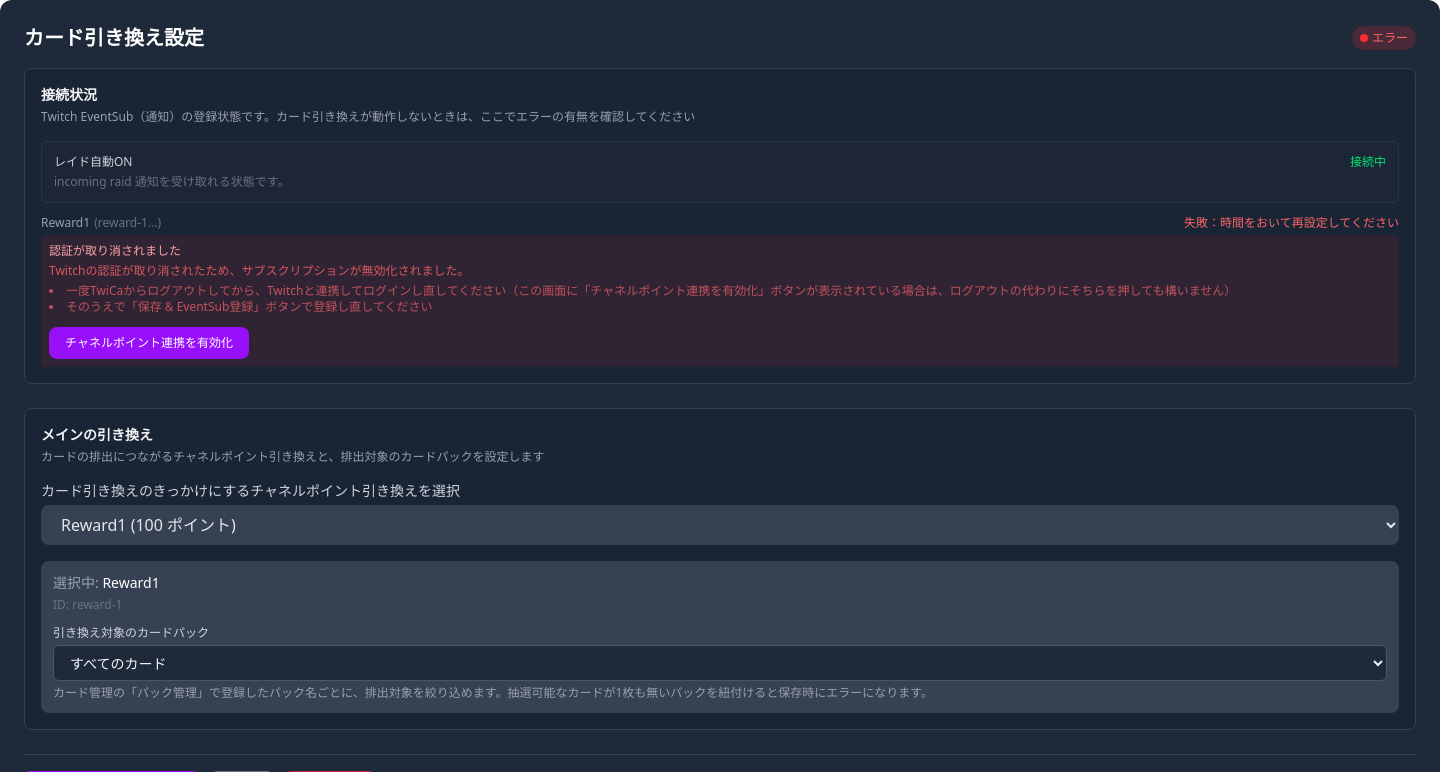
it: ChannelPointSettings maintenance integration › authorization_revoked バナー内の再連携ボタン押下失敗時もバナーが消えずエラーを表示する（Issue #1019 必須指摘）
Click the button "チャネルポイント連携を有効化" at (149, 343), box top-left (49, 327), bottom-right (249, 359)
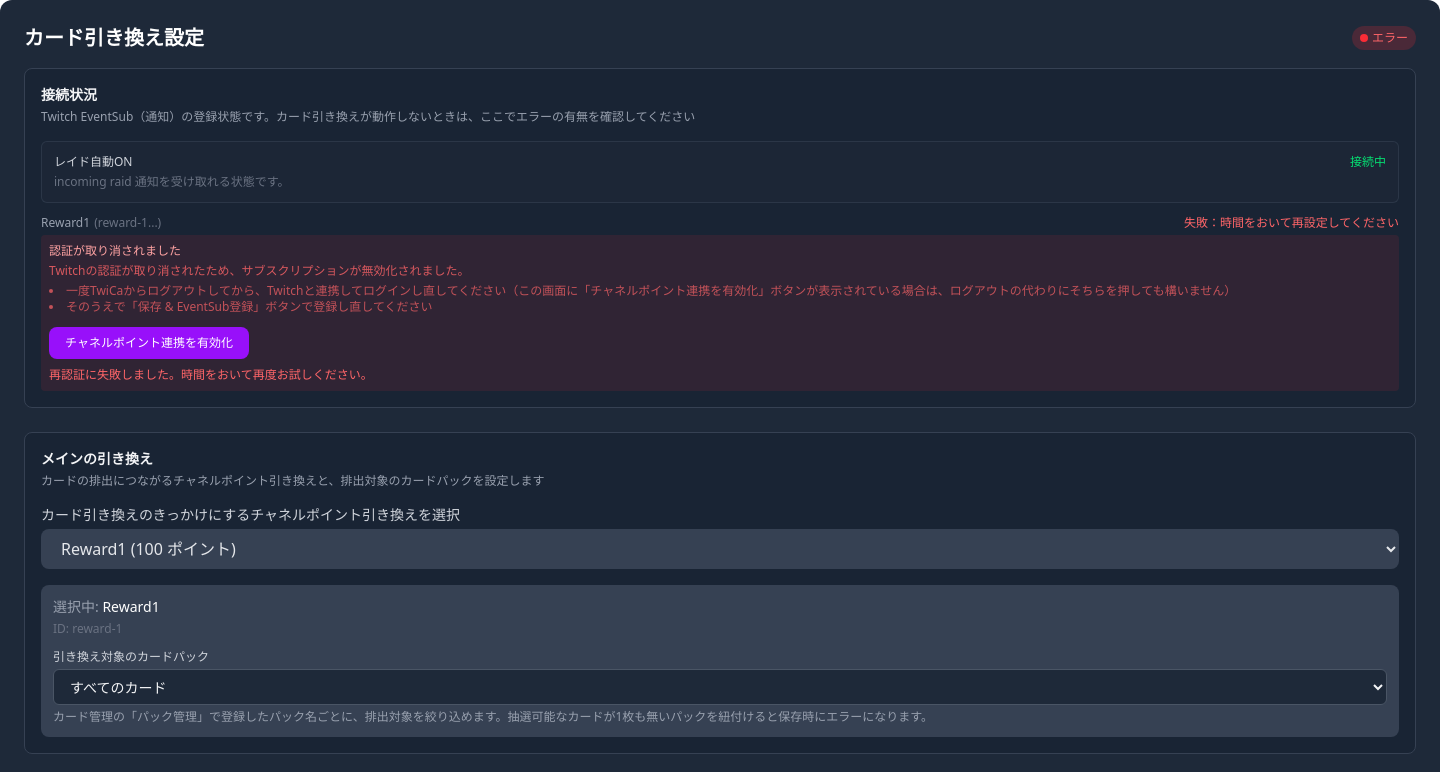
Expected: the text "認証が取り消されました" is shown, top-left (49, 242), bottom-right (181, 259)
Expected: the text "再認証に失敗しました。時間をおいて再度お試しください。" is shown, top-left (49, 366), bottom-right (373, 383)
